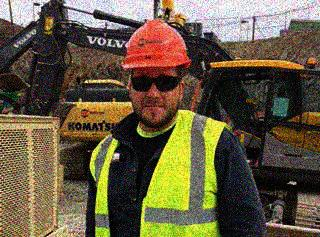helmet: (120, 19, 192, 127)
